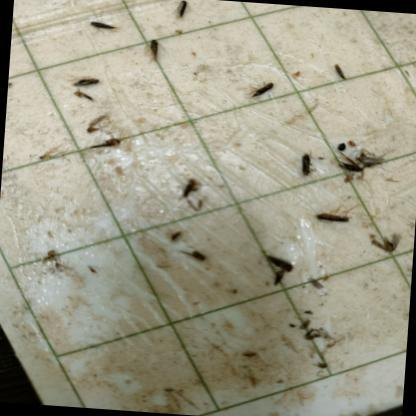prays_oleae: (328, 138, 388, 192), (65, 56, 102, 92), (366, 231, 406, 264), (87, 12, 122, 35), (142, 38, 165, 70), (252, 76, 278, 102), (171, 0, 195, 27), (330, 62, 355, 86), (299, 154, 319, 182)
